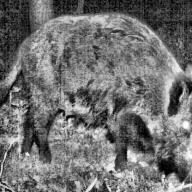boar: (9, 9, 192, 186)
